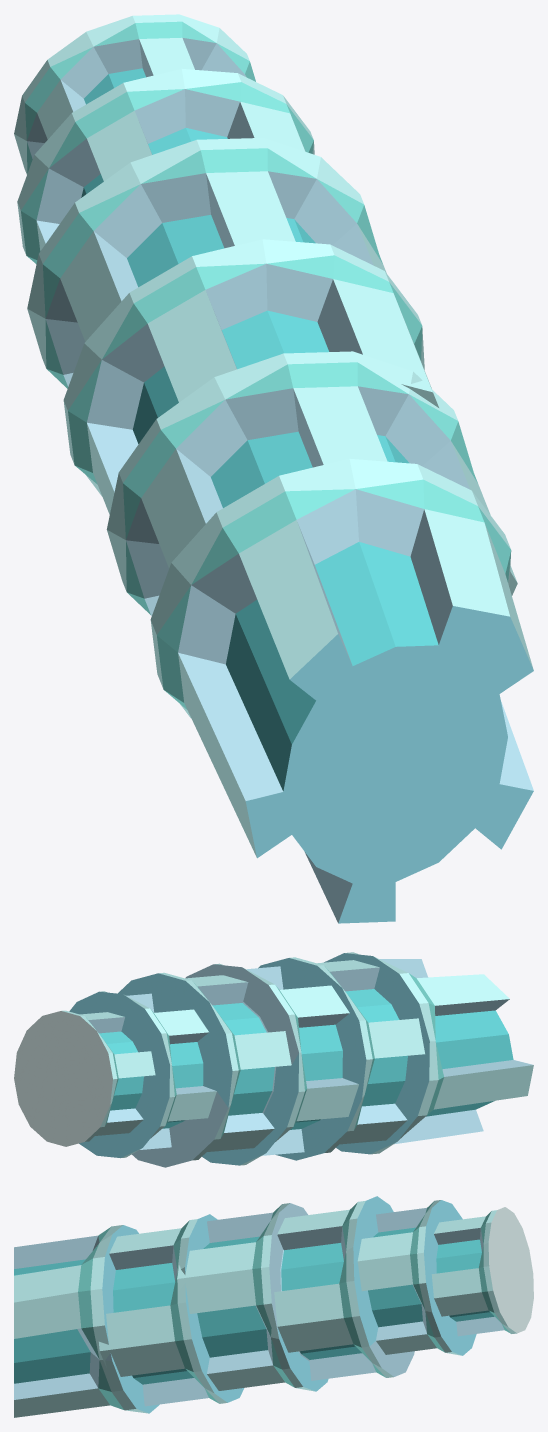
The model's file is pisa_winter.fbx.
3 views of the same model, one above another, from view 1: azimuth 30°, elevation 25°; view 2: azimuth 150°, elevation 25°; view 3: azimuth 270°, elevation 25° (orthographic). The views are drawn at different scales.
Parts seen in each view (by area): view 1: pisa_winter; view 2: pisa_winter; view 3: pisa_winter.
Boxes of the visible parts, x1=… form: pisa_winter: x1=14, y1=14, x2=533, y2=923; pisa_winter: x1=14, y1=952, x2=533, y2=1167; pisa_winter: x1=14, y1=1196, x2=533, y2=1417.
Size of the model in its own units: 152 by 152 by 278.
